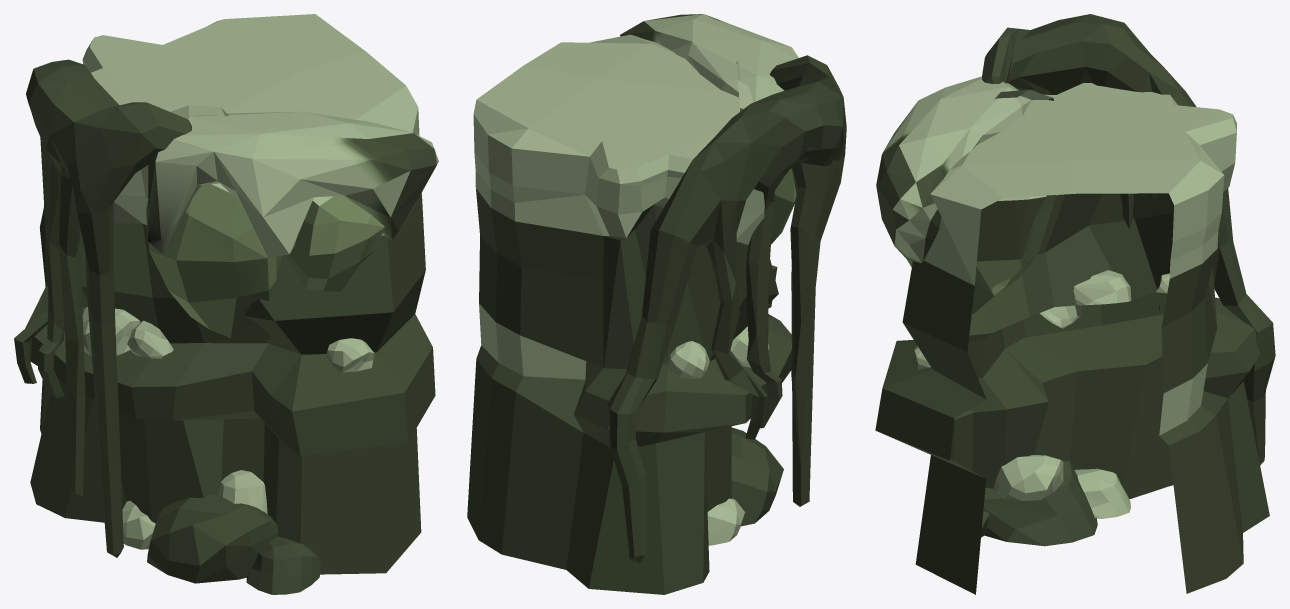
File: EA_Swamp_Wall_05alt.glb
3 renders of one model, left to right at view 1: azimuth 30°, elevation 25°; view 2: azimuth 150°, elevation 25°; view 3: azimuth 270°, elevation 25°, orthographic. The views are drawn at different scales.
Visible parts, largest first — view 1: EA_Swamp_Wall_05alt; view 2: EA_Swamp_Wall_05alt; view 3: EA_Swamp_Wall_05alt.
Boxes of the visible parts, x1,y1,x2,y2 form: EA_Swamp_Wall_05alt: (14, 14, 438, 594); EA_Swamp_Wall_05alt: (467, 14, 846, 594); EA_Swamp_Wall_05alt: (875, 14, 1275, 594).
Size of the model in its own units: 6.24 by 8.91 by 7.21.
1 material, 1 textured.
